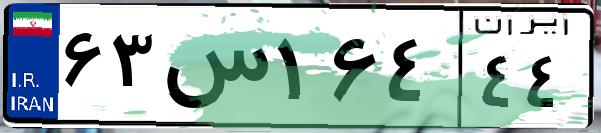1: (270, 28, 330, 110)
3: (110, 28, 158, 98)
4: (385, 28, 445, 110), (475, 38, 525, 113), (525, 38, 570, 115)
6: (330, 28, 385, 110), (57, 26, 110, 100)
س: (158, 20, 270, 120)
